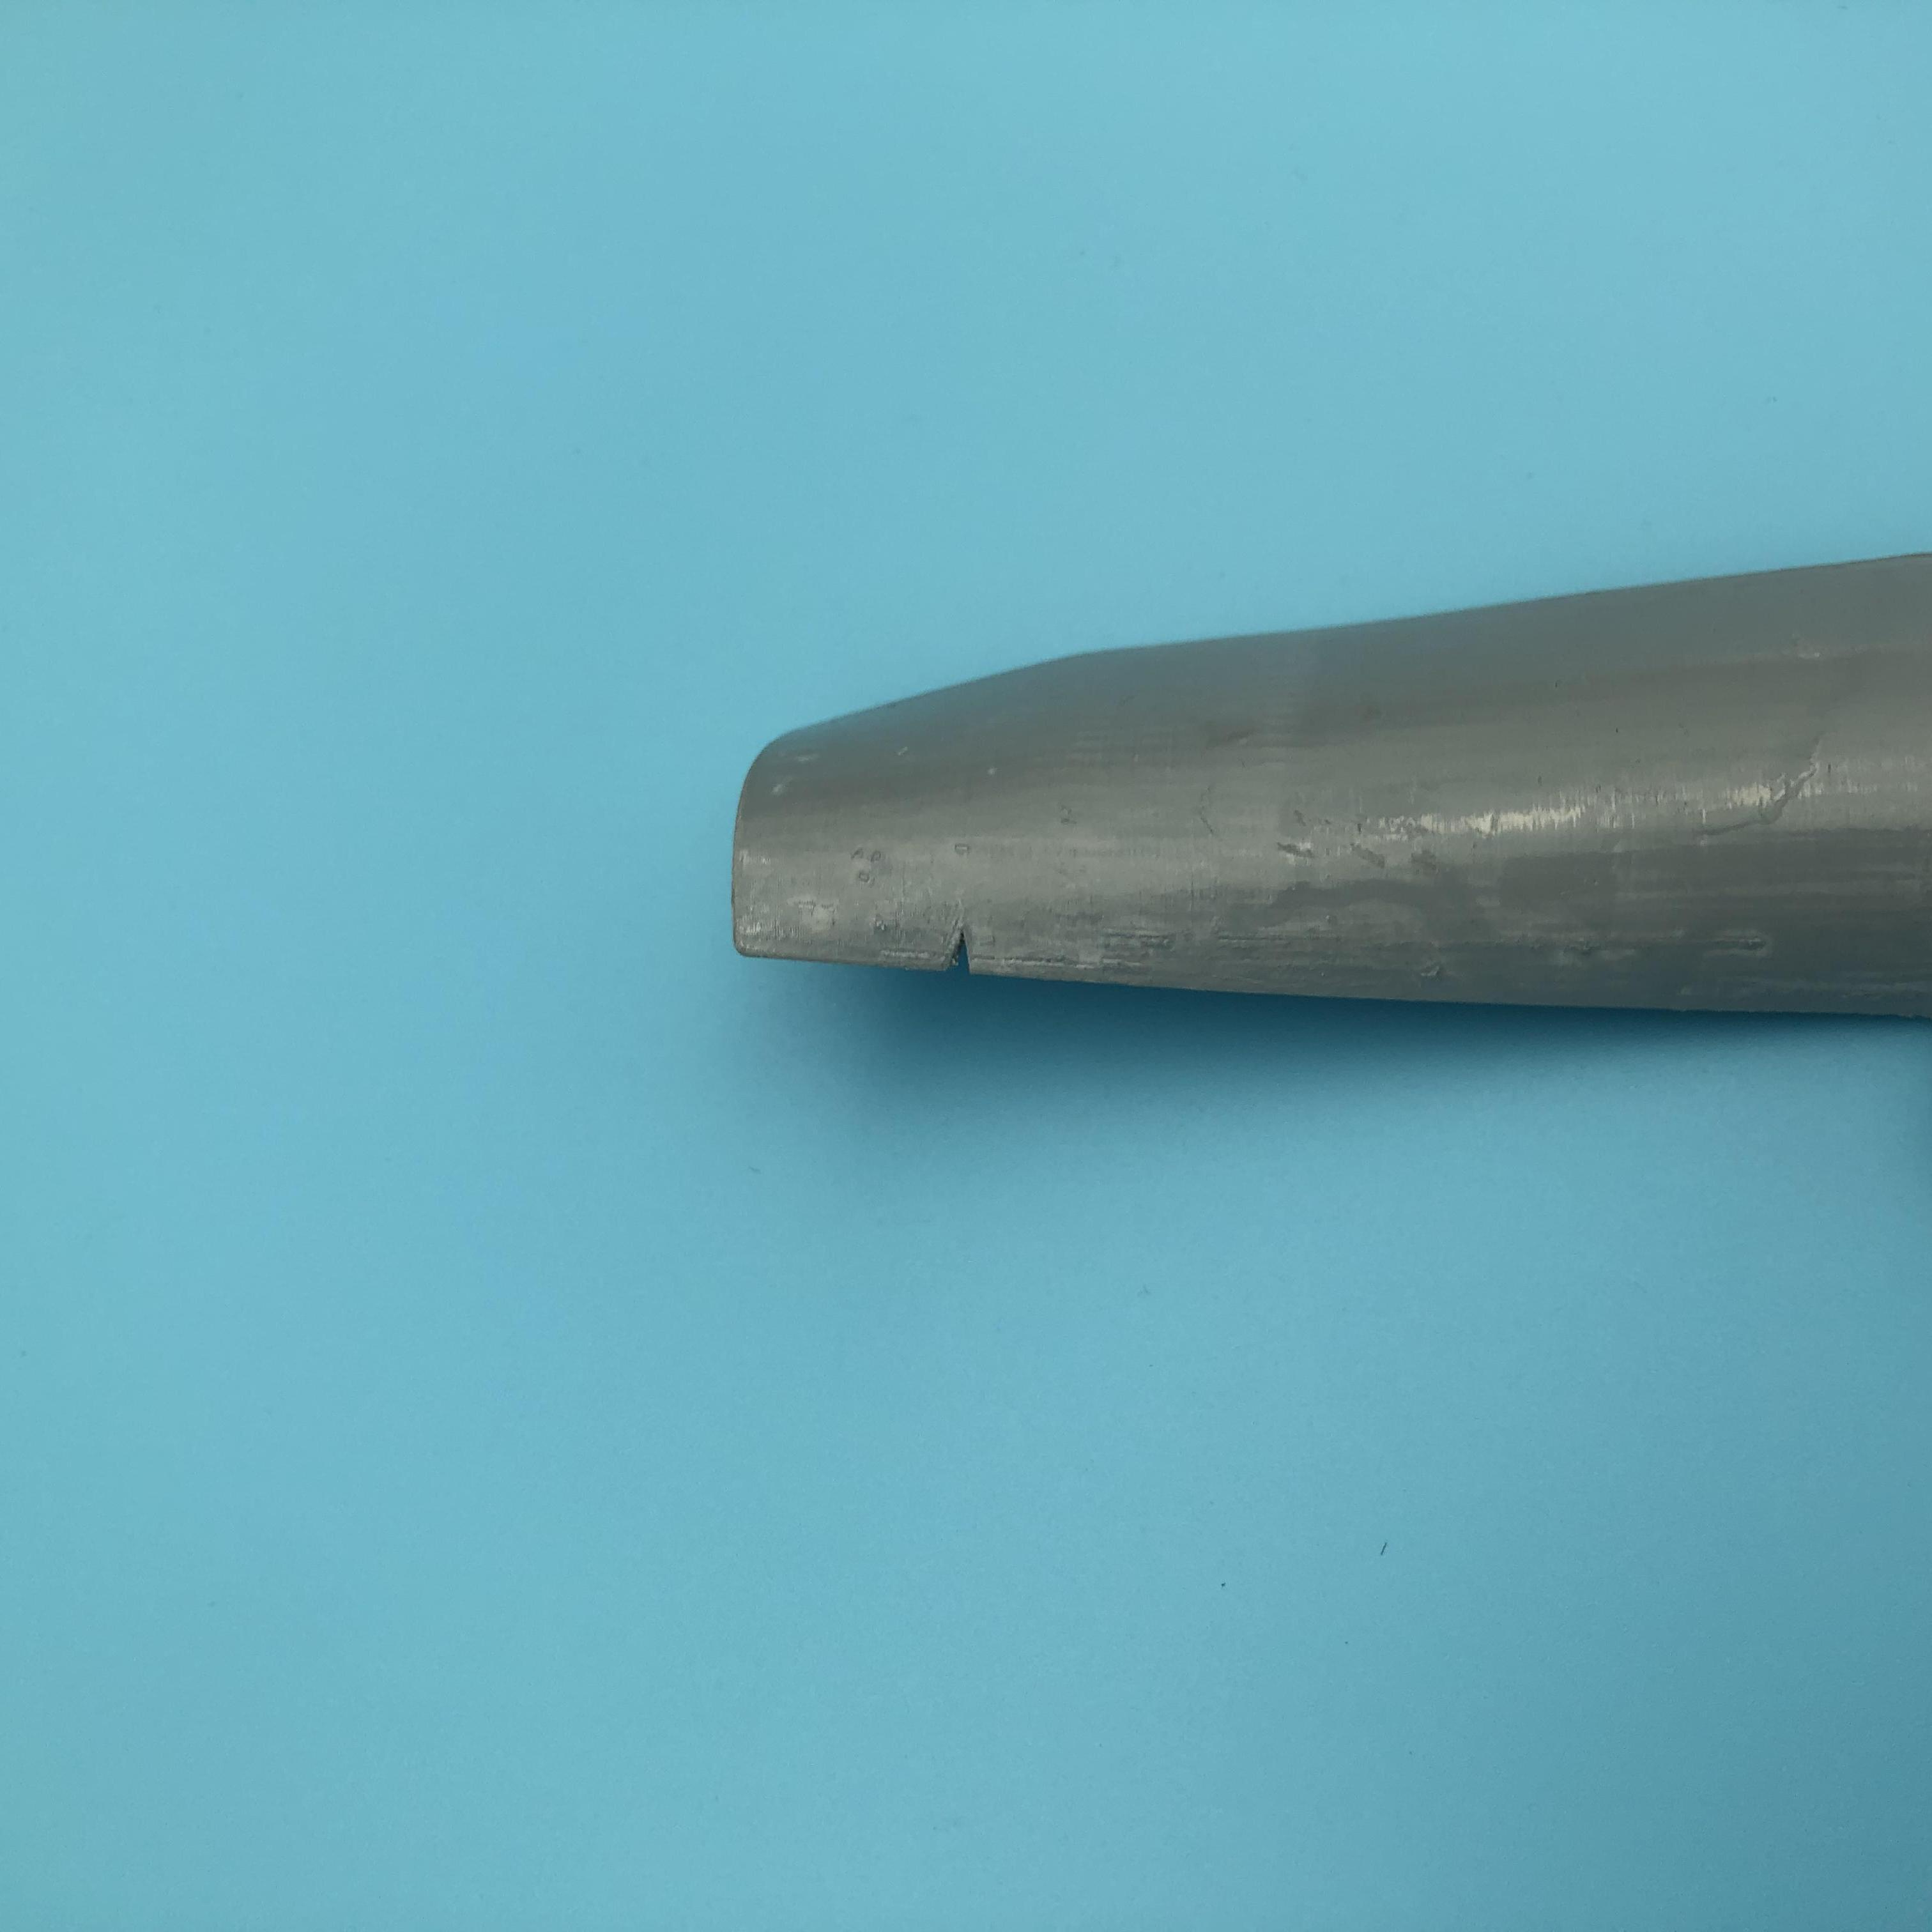groove: (932, 922, 1014, 975)
